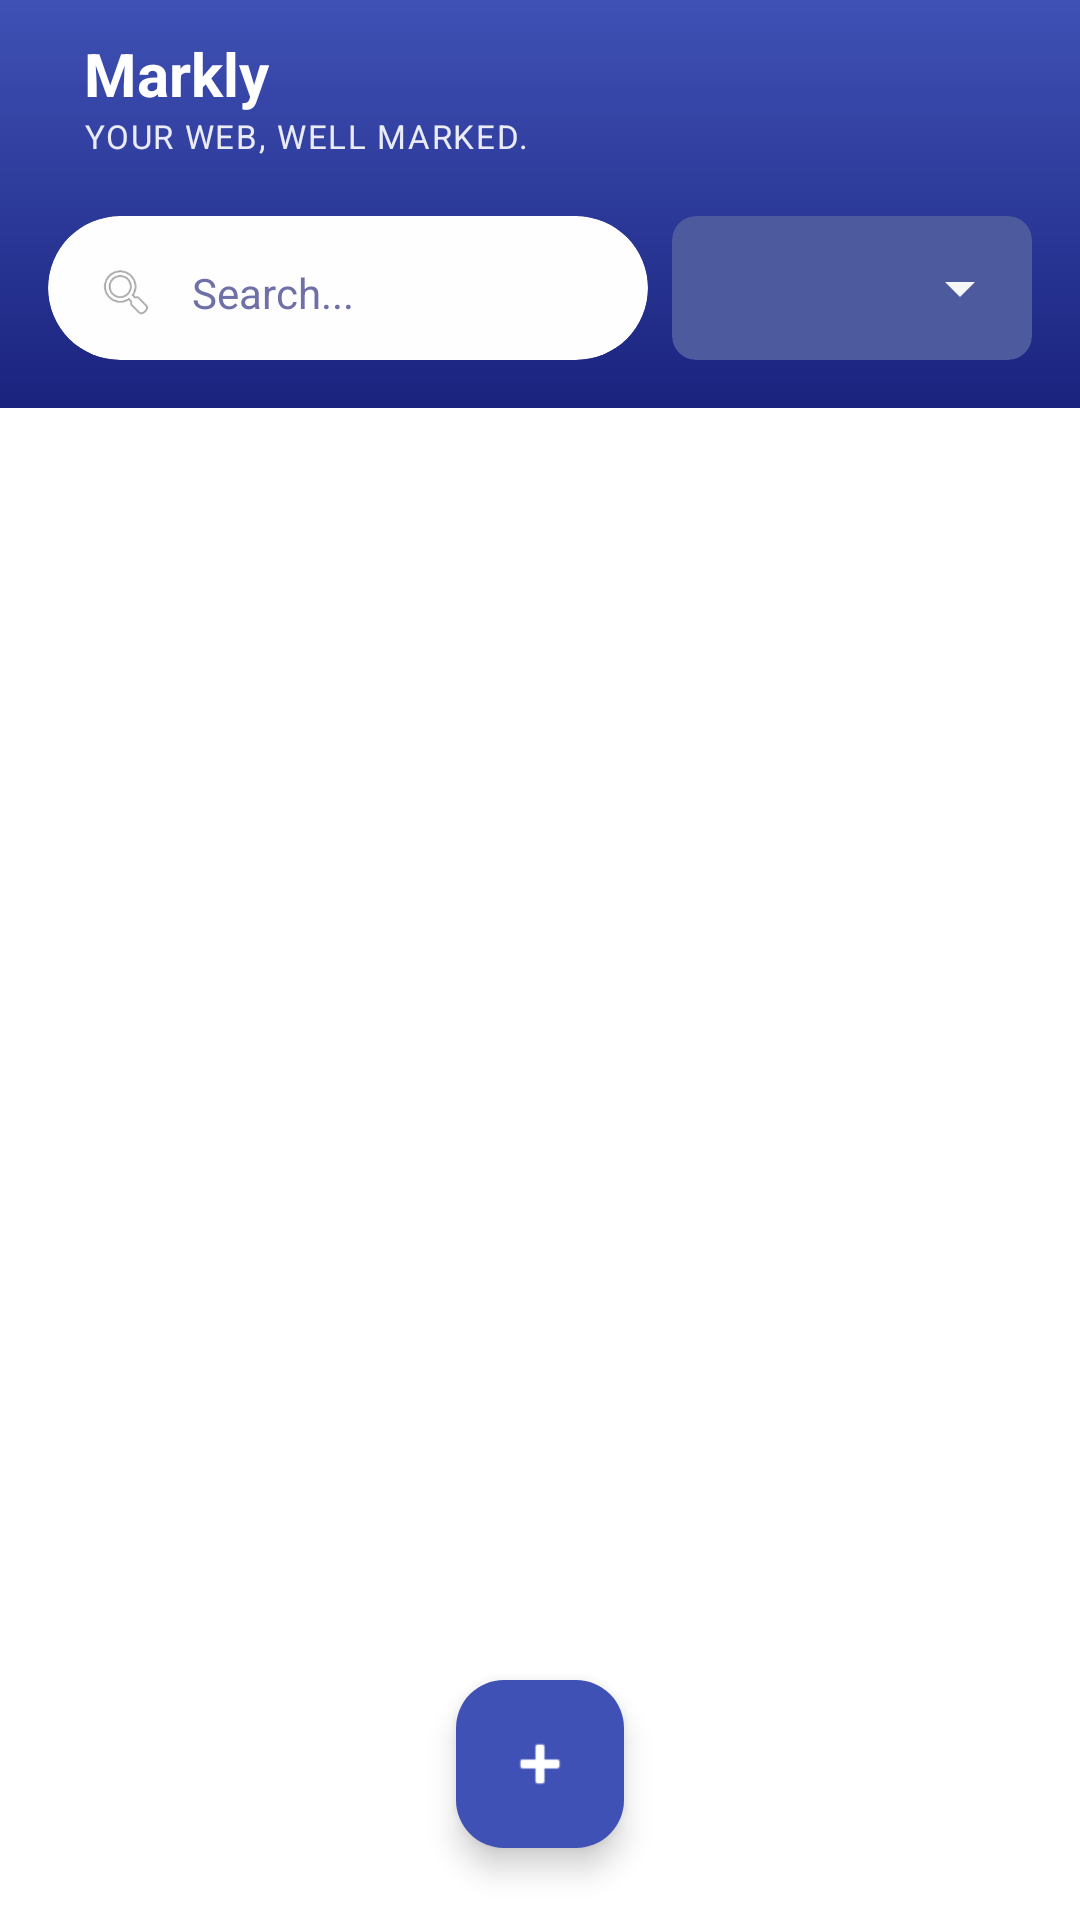

Locate icon controls on the screen. Image size 1080px×1920px, boxes as (x1=x1, y1=y1, x2=x2, y2=y2).
add: (x1=456, y1=1680, x2=624, y2=1848)
